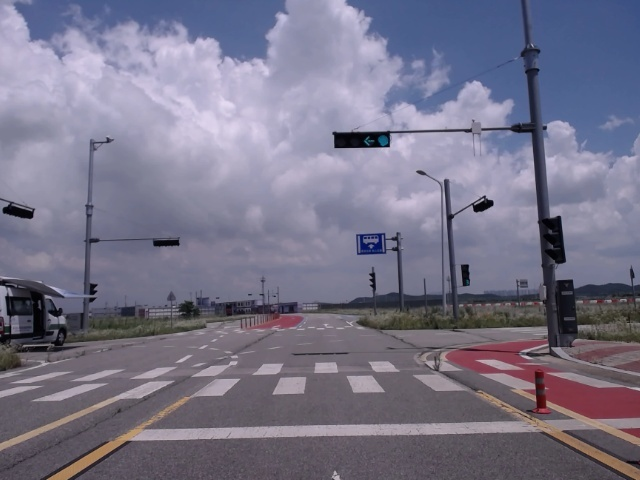all_green_4: (335, 132, 392, 149)
